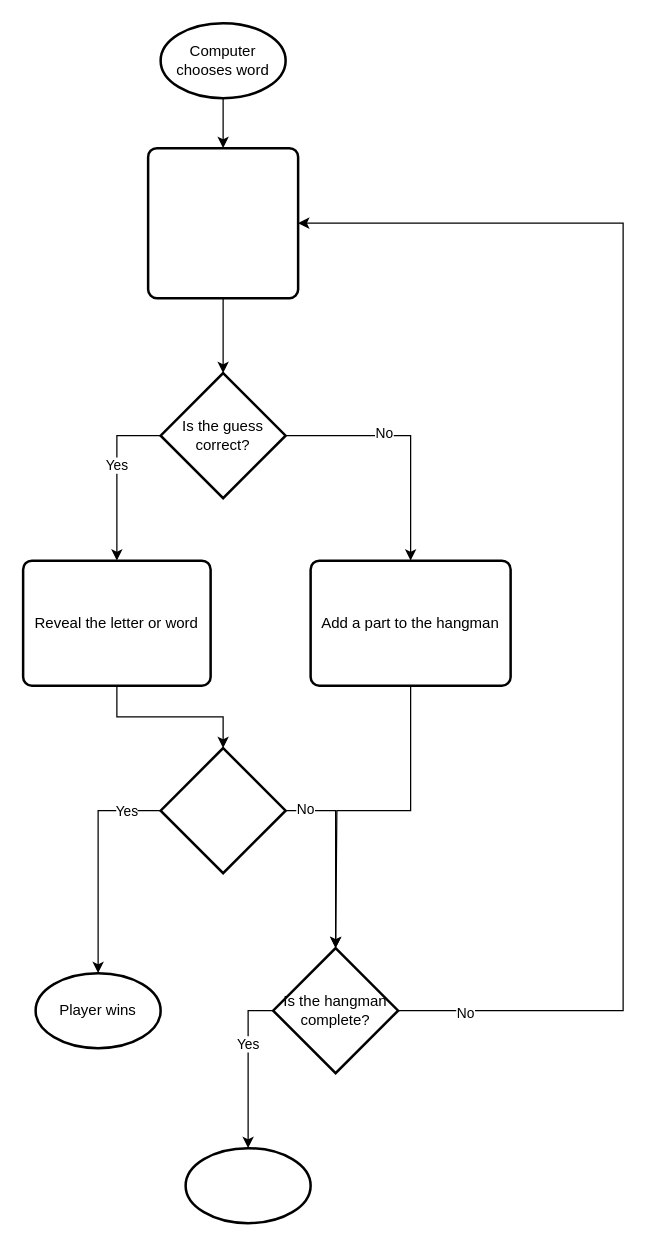
Image size: 655x1245. Some labels were removed from this diagram. The centre of each missing label's shape, as x and y in pixels:
"Is the word revealed?" belongs at (222,810).
"Player chooses letter or word" belongs at (222,222).
"Player loses" belongs at (247,1185).
